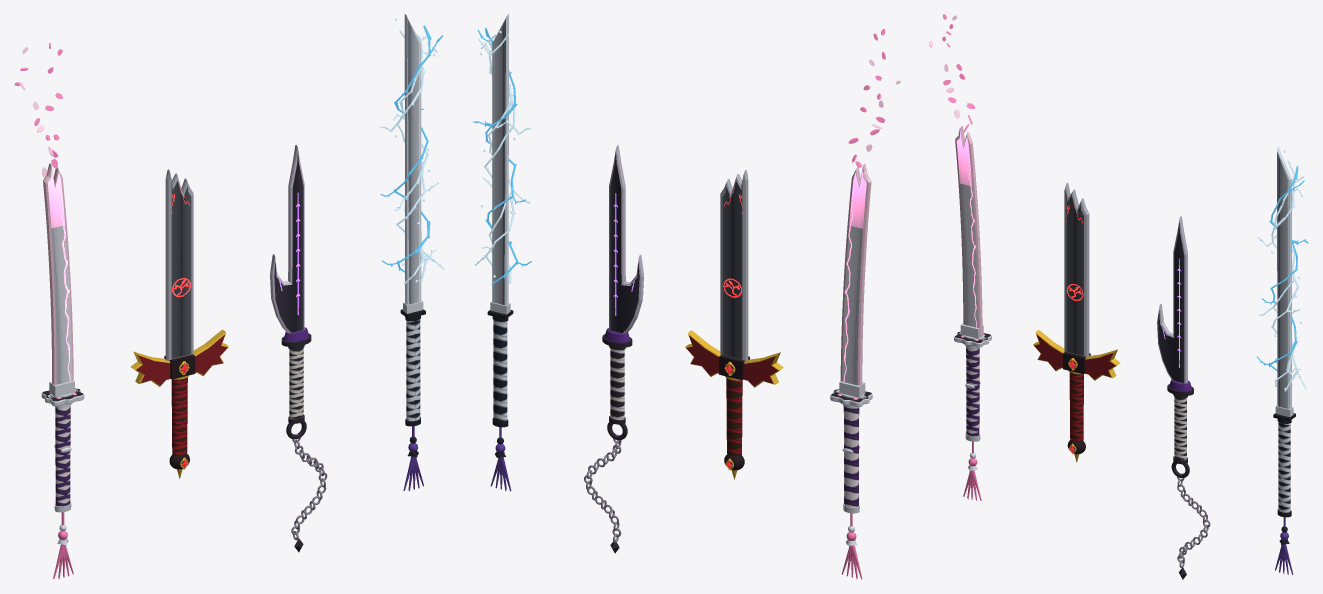
Rendered from Reward_Knives.glb.
3 views of the same model, side by side, from view 1: azimuth 30°, elevation 25°; view 2: azimuth 150°, elevation 25°; view 3: azimuth 330°, elevation 25° (orthographic). The views are drawn at different scales.
Parts seen in each view (by area): view 1: blade_0 (×4), handle_27, handle_201, handle_16, handle_3, wing_guard_2, wing_guard_3; view 2: blade_0 (×4), handle_201, handle_27, handle_16, handle_3, wing_guard_2, wing_guard_3; view 3: blade_0 (×4), handle_27, handle_201, handle_16, handle_3, wing_guard_3, wing_guard_2.
Boxes of the visible parts, box(x1,y1,x2,y2) form: blade_0 (×4): box(43, 14, 421, 384); handle_27: box(55, 405, 70, 506); handle_201: box(406, 319, 420, 421); handle_16: box(171, 377, 187, 455); handle_3: box(289, 347, 303, 419); wing_guard_2: box(131, 351, 170, 386); wing_guard_3: box(193, 329, 228, 376); blade_0 (×4): box(492, 14, 871, 385); handle_201: box(493, 320, 507, 421); handle_27: box(843, 406, 859, 507); handle_16: box(726, 378, 742, 456); handle_3: box(610, 348, 624, 420); wing_guard_2: box(743, 352, 783, 387); wing_guard_3: box(685, 330, 720, 376); blade_0 (×4): box(955, 126, 1291, 408); handle_27: box(966, 346, 979, 436); handle_201: box(1278, 422, 1290, 512); handle_16: box(1069, 372, 1083, 441); handle_3: box(1174, 396, 1186, 460); wing_guard_3: box(1085, 349, 1120, 380); wing_guard_2: box(1033, 330, 1064, 370).
Bounding box in the file's own units: 1.09 × 1.42 × 0.0987.
32 materials, 32 textured.
